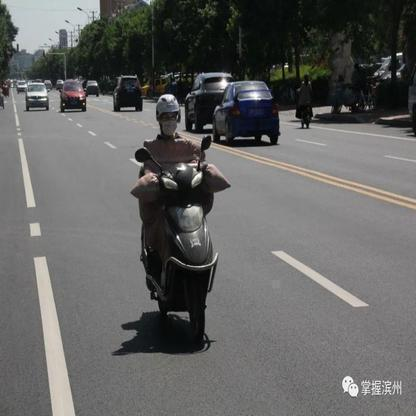target: (131, 93, 227, 345)
